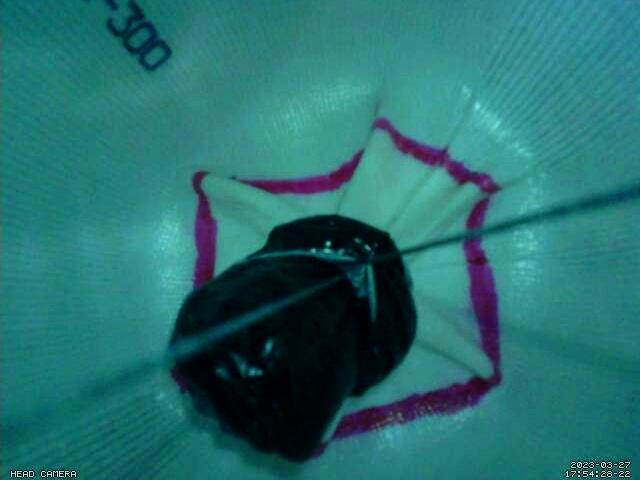red-circle: (193, 116, 504, 460)
